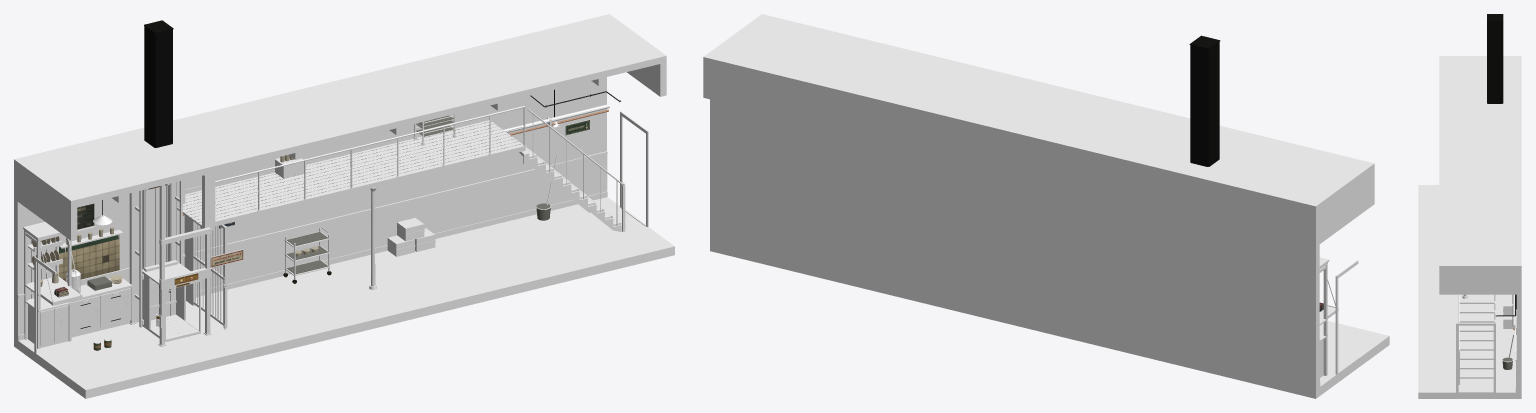
3 renders of one model, left to right at view 1: azimuth 30°, elevation 25°; view 2: azimuth 150°, elevation 25°; view 3: azimuth 270°, elevation 25°, orthographic. The views are drawn at different scales.
Visible parts, largest first — view 1: Att16aSet, Att16aCar; view 2: Att16aSet; view 3: Att16aSet.
Part boxes in pixels (x1,y1,x2,y2): Att16aSet: (14,14,674,398); Att16aCar: (142,260,201,342); Att16aSet: (703,14,1389,398); Att16aSet: (1418,14,1521,398).
Size of the model in its own units: 14.15 by 6.87 by 2.95.
22 materials, 2 textured.
